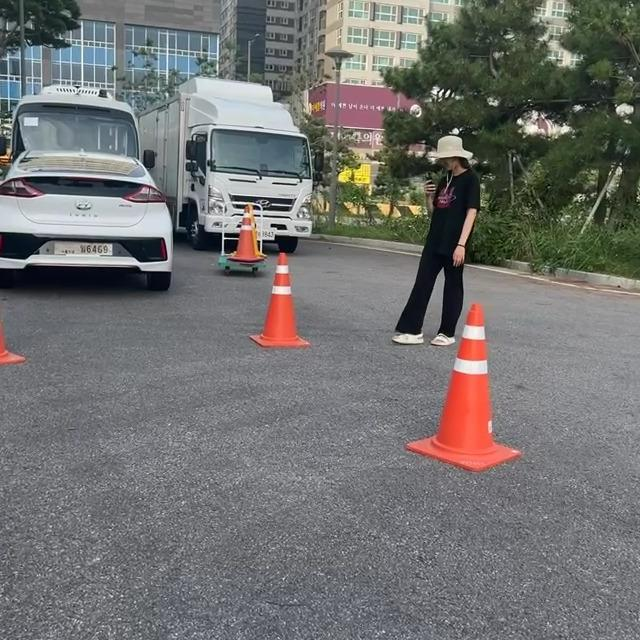fallen_object: (389, 277, 545, 515), (220, 237, 337, 367), (0, 295, 54, 402), (236, 202, 275, 288)
